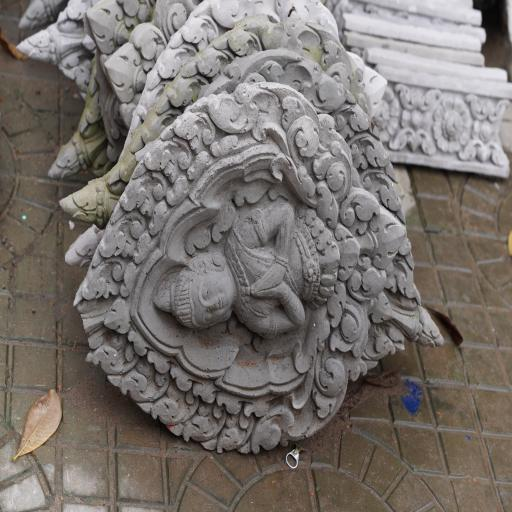hoa: (429, 88, 472, 159), (368, 78, 400, 154)
la: (203, 76, 275, 136), (72, 254, 142, 310), (137, 128, 186, 204), (106, 168, 168, 227), (252, 395, 310, 457), (82, 220, 154, 262), (306, 346, 351, 412), (143, 380, 194, 434), (113, 357, 168, 407), (214, 398, 260, 457), (167, 102, 215, 157), (329, 292, 372, 352), (182, 394, 226, 449), (89, 326, 137, 375), (332, 179, 370, 238), (369, 199, 402, 266), (283, 116, 317, 177), (464, 82, 511, 124), (391, 74, 440, 114), (457, 135, 507, 170), (387, 122, 433, 156), (346, 262, 383, 302)
than: (141, 184, 369, 350)
